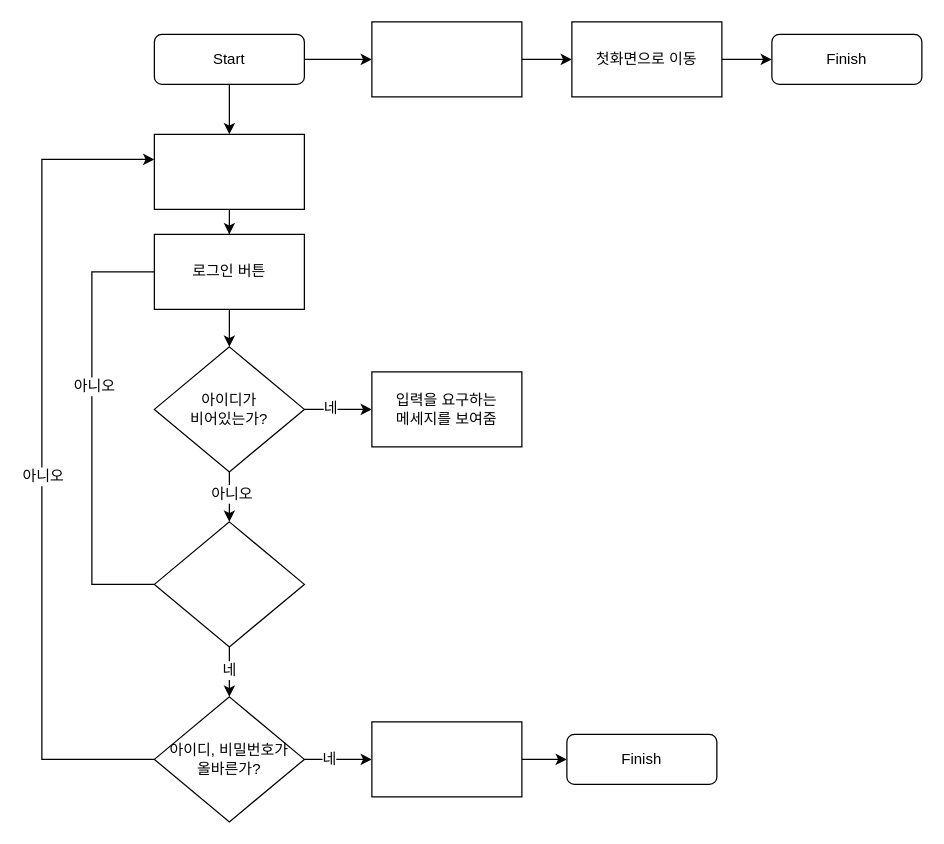
This 944x844 diagram has some shape labels left out. Here are the shapes that lost their labels. From the top down, the centre of each, then its label:
At (x=446, y=59): "뒤로가기 버튼을 누름".
At (x=228, y=171): "아이디와 비밀번호를 입력".
At (x=228, y=584): "서버가 응답하는가?".
At (x=446, y=759): "캐릭터 선택화면으로 이동".
